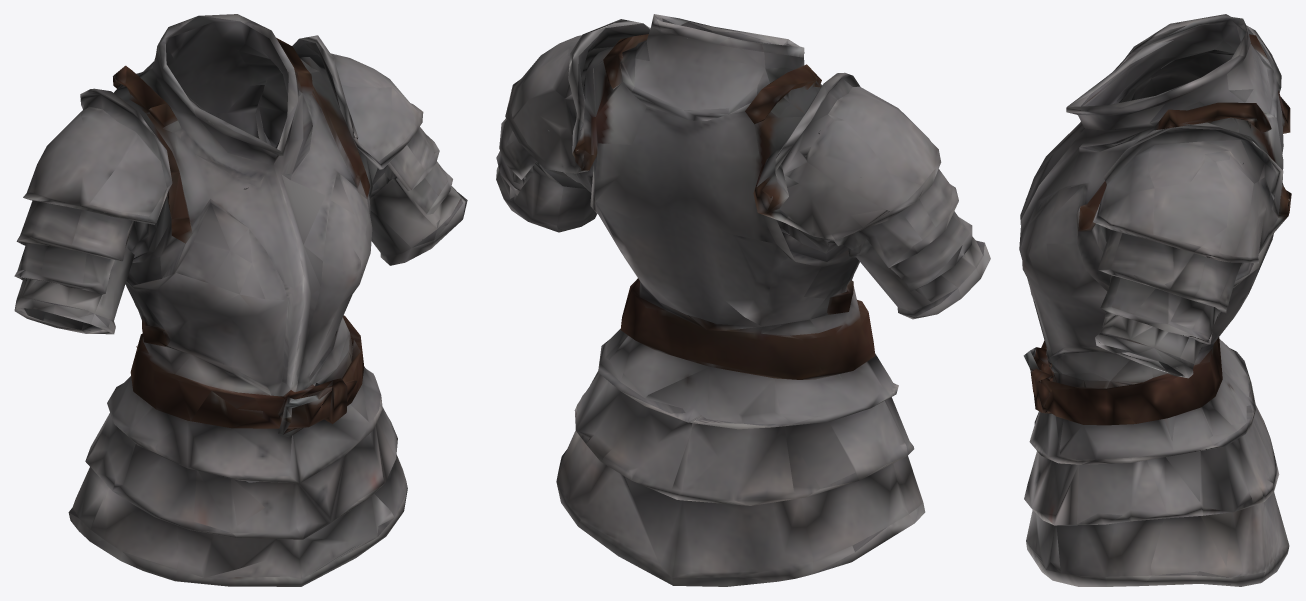
File: plate-suit-15k-v3.glb
3 renders of one model, left to right at view 1: azimuth 30°, elevation 25°; view 2: azimuth 150°, elevation 25°; view 3: azimuth 270°, elevation 25°, orthographic. The views are drawn at different scales.
Visible parts, largest first — view 1: plate-suit-15k-v1; view 2: plate-suit-15k-v1; view 3: plate-suit-15k-v1.
Part boxes in pixels (bbox=[...]): plate-suit-15k-v1: bbox=[14, 14, 467, 586]; plate-suit-15k-v1: bbox=[496, 14, 990, 586]; plate-suit-15k-v1: bbox=[1019, 14, 1291, 586].
Bounding box in the file's own units: 0.9311 × 1 × 0.4748.
Materials: 1 (1 with a texture image).
